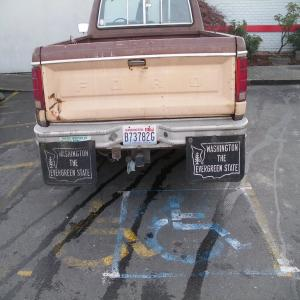Vehicle-registration-plate: (123, 127, 158, 145)
